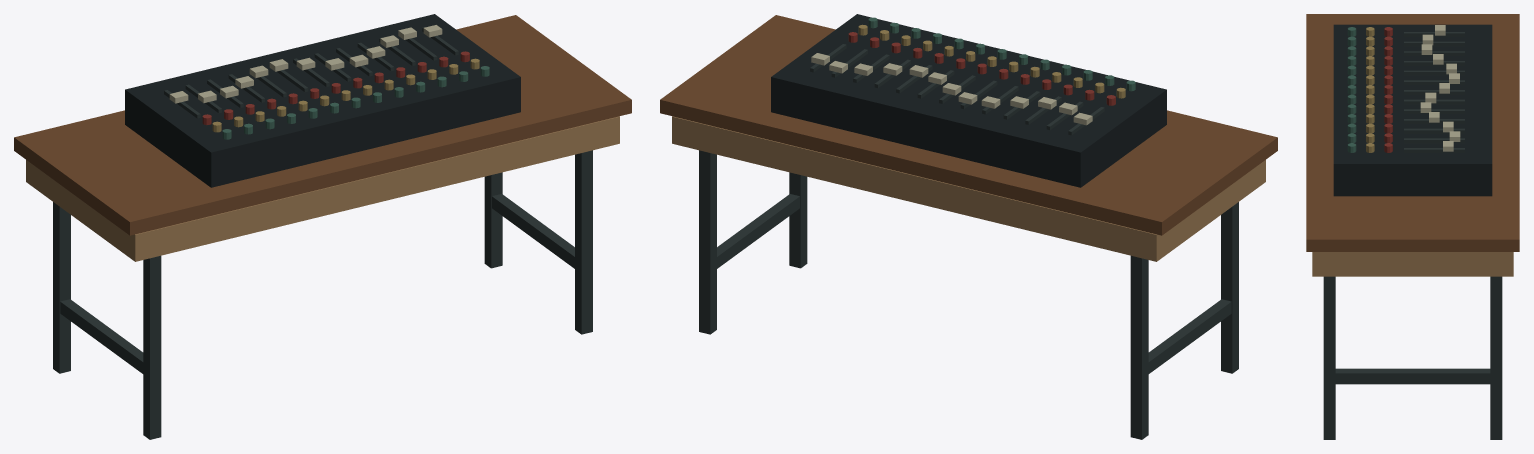
The model's file is audio_mixer.glb.
3 views of the same model, side by side, from view 1: azimuth 30°, elevation 25°; view 2: azimuth 150°, elevation 25°; view 3: azimuth 270°, elevation 25° (orthographic). The views are drawn at different scales.
Parts seen in each view (by area): view 1: audio_mixer; view 2: audio_mixer; view 3: audio_mixer.
Part boxes in pixels (bbox=[...]): audio_mixer: bbox=[14, 14, 631, 439]; audio_mixer: bbox=[660, 14, 1277, 439]; audio_mixer: bbox=[1306, 14, 1519, 439].
Bounding box in the file's own units: 1.75 × 0.921 × 0.7.
